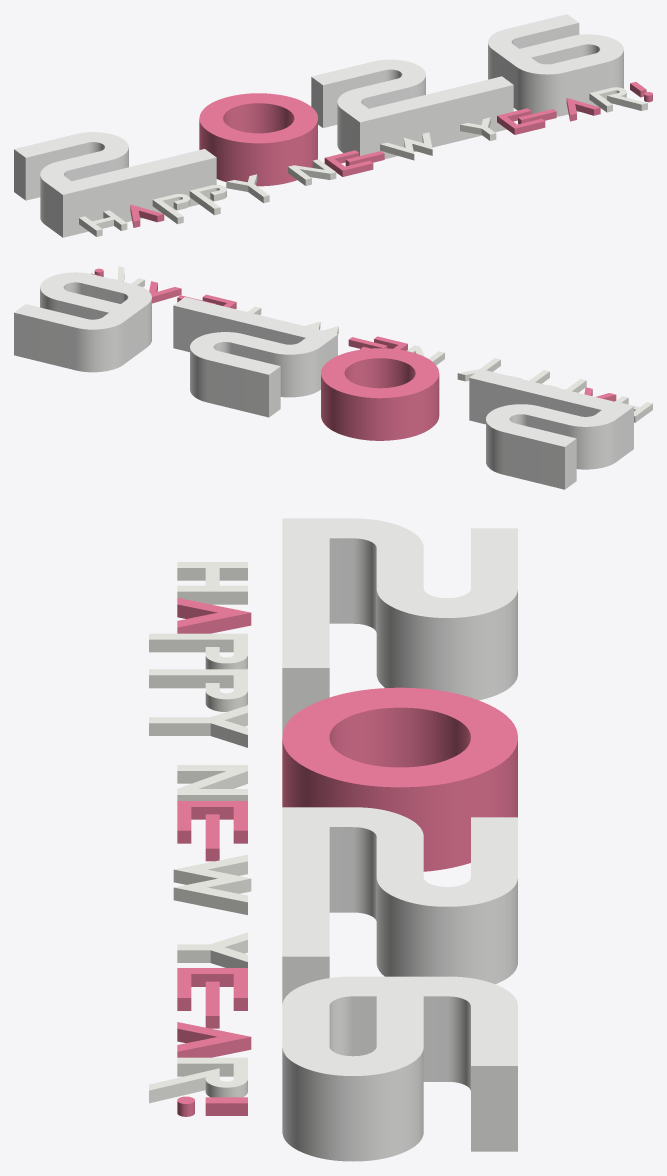
3 views of the same model, one above another, from view 1: azimuth 30°, elevation 25°; view 2: azimuth 150°, elevation 25°; view 3: azimuth 270°, elevation 25° (orthographic). The views are drawn at different scales.
Parts seen in each view (by area): view 1: Text.001, Text.003, Text, Text.002, Text.006, Text.011, Text.014, Text.009, Text.013, Text.017, Text.016, Text.019 (+4 smaller); view 2: Text.003, Text.001, Text, Text.002, Text.007, Text.019, Text.015; view 3: Text, Text.003, Text.001, Text.002, Text.011, Text.006, Text.016, Text.019, Text.017, Text.014, Text.015, Text.009 (+4 smaller).
Boxes of the visible parts, x1,y1,x2,y2 form: Text.001: [311, 59, 513, 158]; Text.003: [14, 132, 216, 237]; Text: [488, 14, 623, 116]; Text.002: [199, 93, 317, 186]; Text.006: [589, 87, 647, 112]; Text.011: [380, 132, 432, 160]; Text.014: [288, 159, 336, 185]; Text.009: [497, 108, 545, 134]; Text.013: [324, 150, 373, 176]; Text.017: [152, 194, 190, 224]; Text.016: [189, 185, 226, 215]; Text.019: [79, 210, 127, 236]; Text.003: [469, 369, 633, 489]; Text.001: [173, 297, 337, 417]; Text: [14, 272, 151, 372]; Text.002: [321, 348, 439, 440]; Text.007: [149, 281, 181, 303]; Text.019: [615, 396, 652, 422]; Text.015: [457, 358, 500, 381]; Text: [282, 976, 517, 1161]; Text.003: [282, 518, 517, 735]; Text.001: [282, 807, 517, 1004]; Text.002: [282, 687, 517, 871]; Text.011: [173, 854, 251, 914]; Text.006: [149, 1057, 247, 1103]; Text.016: [149, 669, 247, 711]; Text.019: [177, 562, 247, 604]; Text.017: [149, 633, 247, 669]; Text.014: [177, 765, 247, 800]; Text.015: [149, 705, 247, 747]; Text.009: [177, 968, 247, 1010].
Bounding box in the file's own units: 2.8 × 0.2 × 0.7831.
Materials: 1 (1 with a texture image).
